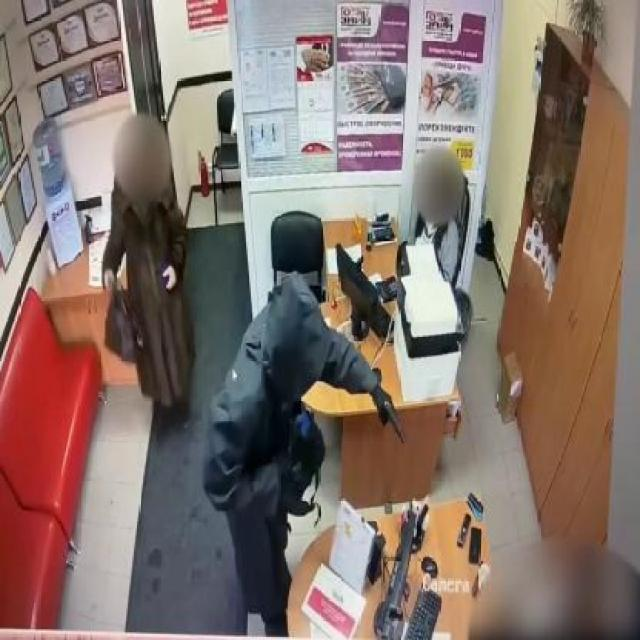weapon: (374, 397, 412, 452)
